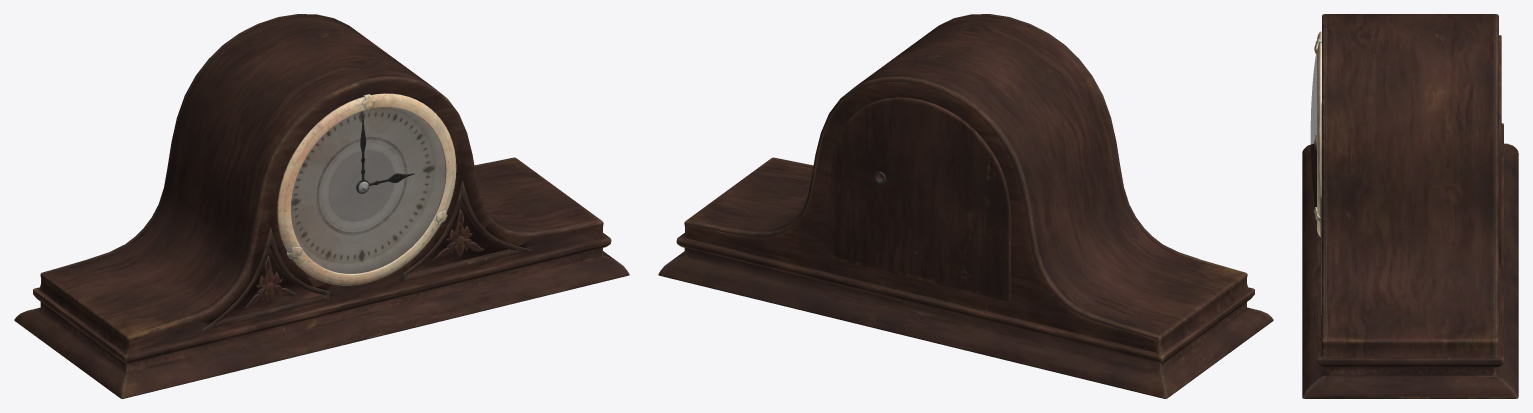
File: mantelclock.glb
The picture shows the model from 3 angles, left to right: view 1: azimuth 30°, elevation 25°; view 2: azimuth 150°, elevation 25°; view 3: azimuth 270°, elevation 25°; orthographic projection.
Parts seen in each view (by area): view 1: mantel_clock_01, mantel_clock_01_glass; view 2: mantel_clock_01; view 3: mantel_clock_01, mantel_clock_01_glass.
Part boxes in pixels (x1=…): mantel_clock_01: x1=14, y1=14, x2=629, y2=398; mantel_clock_01_glass: x1=291, y1=107, x2=445, y2=273; mantel_clock_01: x1=658, y1=14, x2=1273, y2=398; mantel_clock_01: x1=1302, y1=14, x2=1518, y2=398; mantel_clock_01_glass: x1=1310, y1=53, x2=1316, y2=206.
Size of the model in its own units: 0.3423 by 0.1605 by 0.1261.
2 materials, 2 textured.
